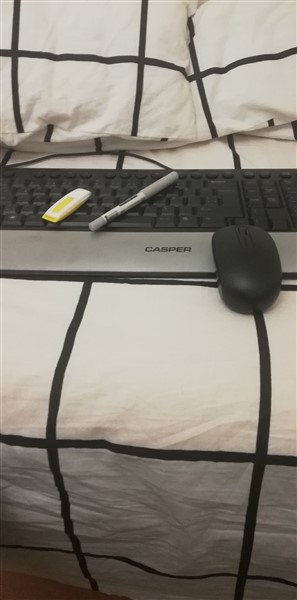flash disk: (38, 183, 93, 227)
klavye: (1, 162, 297, 282)
mouse: (209, 219, 283, 313)
pilot kalem: (87, 171, 185, 238)
